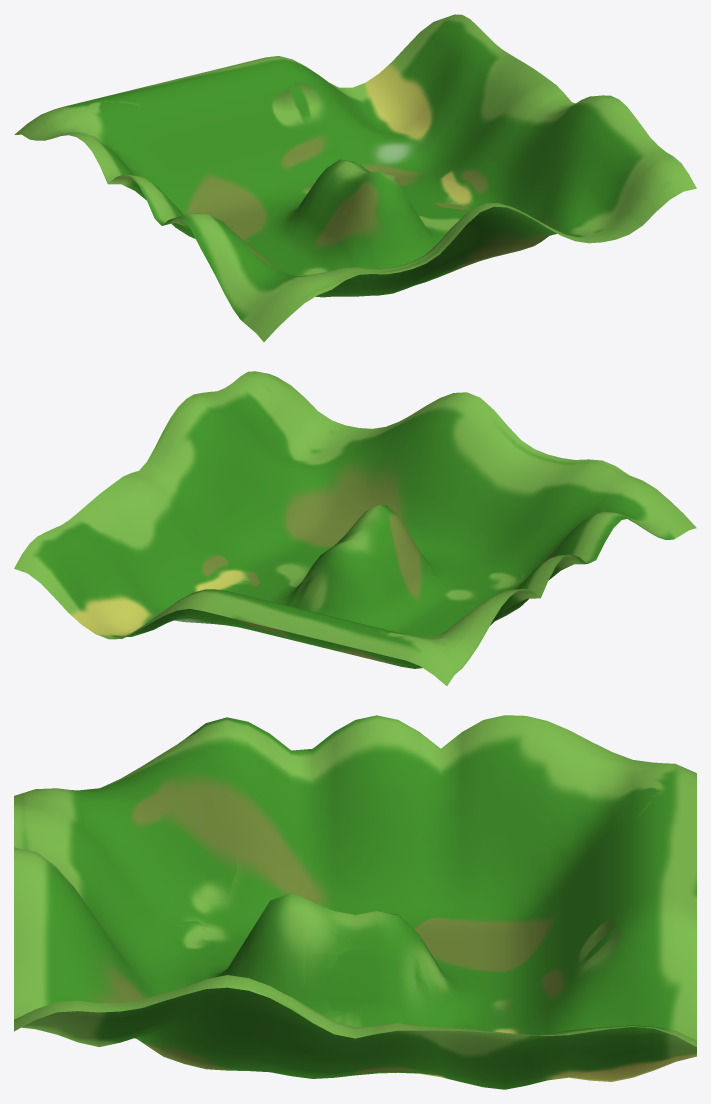
File: ForestMap.fbx
The picture shows the model from 3 angles, top to bottom: view 1: azimuth 30°, elevation 25°; view 2: azimuth 150°, elevation 25°; view 3: azimuth 270°, elevation 25°; orthographic projection. The views are drawn at different scales.
Parts seen in each view (by area): view 1: Plane; view 2: Plane; view 3: Plane.
Boxes of the visible parts, x1,y1,x2,y2 form: Plane: [14, 14, 696, 341]; Plane: [14, 371, 696, 685]; Plane: [14, 715, 696, 1089].
Bounding box in the file's own units: 18662 × 5043 × 18546.
1 material, 1 textured.
